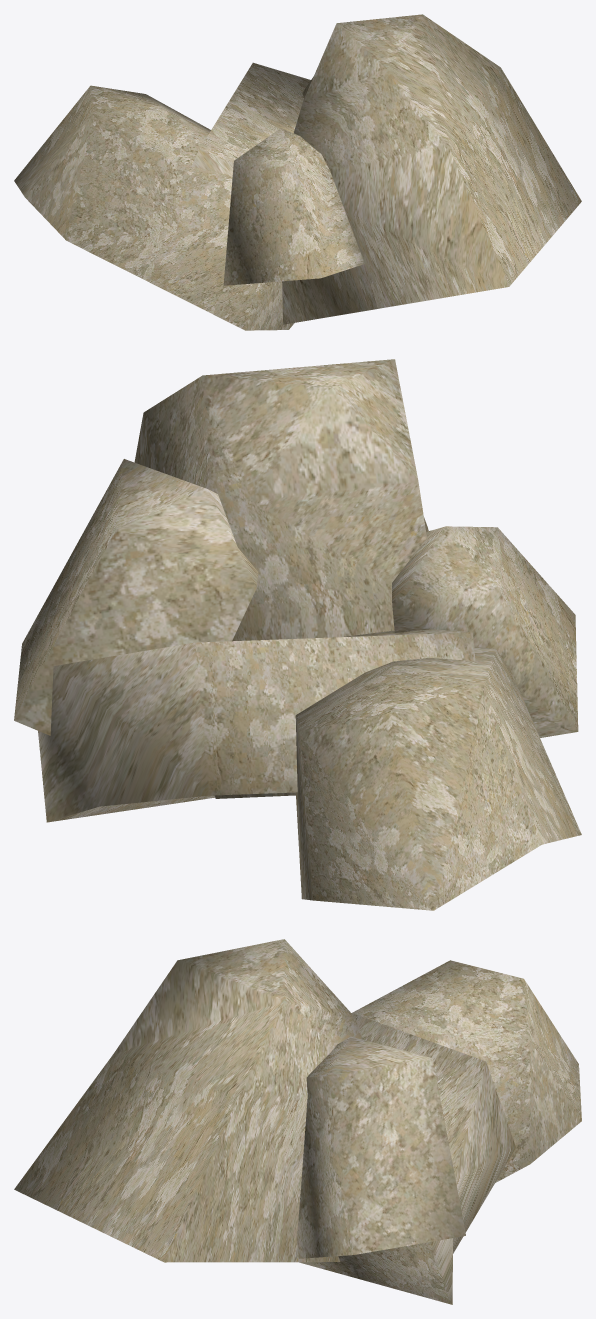
Rendered from rock_formation_a3_l3.fbx.
3 views of the same model, one above another, from view 1: azimuth 30°, elevation 25°; view 2: azimuth 150°, elevation 25°; view 3: azimuth 270°, elevation 25° (orthographic). The views are drawn at different scales.
Parts seen in each view (by area): view 1: mesh_node; view 2: mesh_node; view 3: mesh_node.
Boxes of the visible parts, x1,y1,x2,y2 form: mesh_node: (14, 14, 581, 330); mesh_node: (14, 359, 581, 910); mesh_node: (14, 939, 581, 1304).
Bounding box in the file's own units: 10.04 × 6.62 × 10.27.
